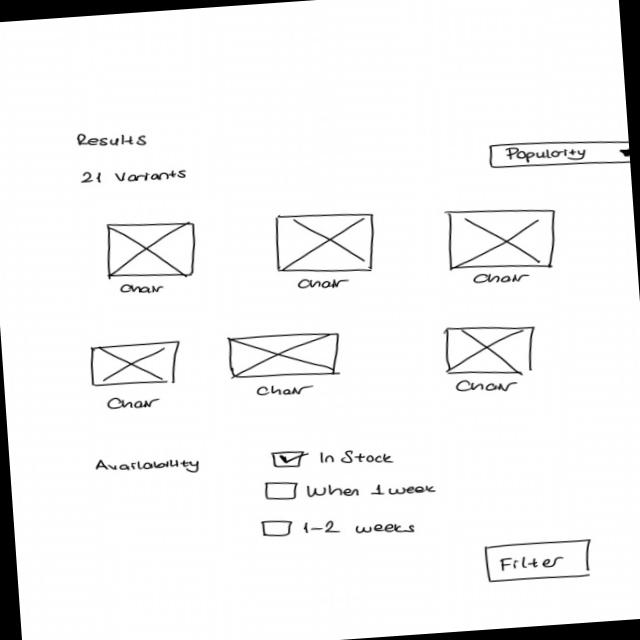button: (484, 537, 597, 585)
checkbox: (264, 470, 439, 510), (259, 509, 418, 546), (271, 443, 399, 475)
image: (444, 202, 562, 275), (271, 208, 380, 279), (101, 216, 200, 283), (226, 329, 345, 384), (443, 321, 539, 380), (89, 340, 184, 389)
label: (93, 451, 206, 483), (78, 163, 191, 188), (73, 128, 151, 153), (450, 376, 520, 396), (102, 392, 168, 412), (253, 380, 315, 399), (472, 269, 533, 286), (297, 274, 354, 292), (118, 282, 169, 298)
select: (484, 133, 631, 173)
